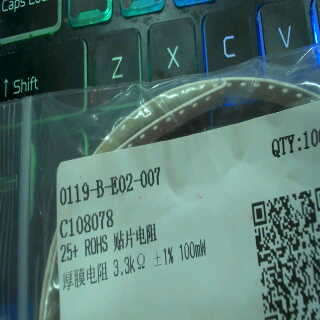3.3kO: (108, 248, 149, 281)
